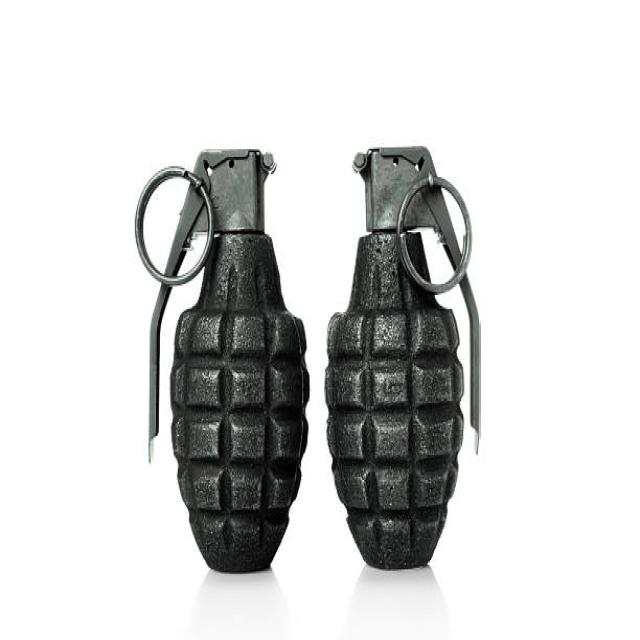grenade: (127, 137, 318, 578), (319, 140, 490, 573)
